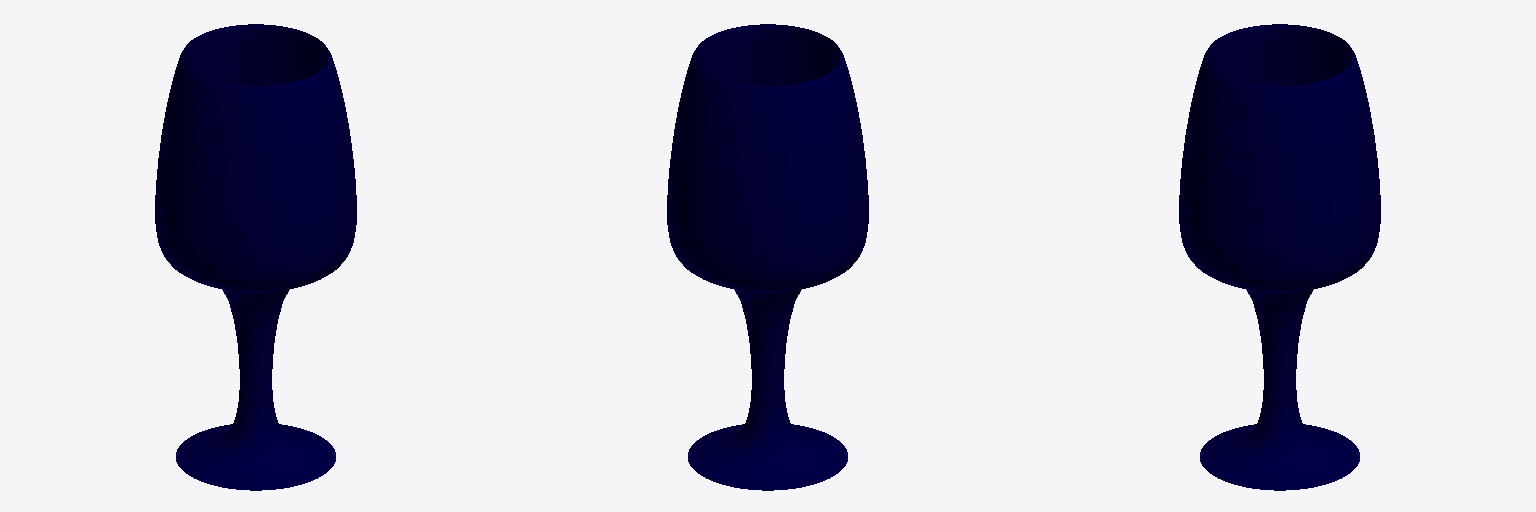
File: glass.obj
3 renders of one model, left to right at view 1: azimuth 30°, elevation 25°; view 2: azimuth 150°, elevation 25°; view 3: azimuth 270°, elevation 25°, orthographic.
Visible parts, largest first — view 1: Circle; view 2: Circle; view 3: Circle.
Boxes of the visible parts, box(x1,y1,x2,y2) form: Circle: box(155, 24, 356, 490); Circle: box(667, 24, 868, 490); Circle: box(1179, 24, 1380, 490).
Size of the model in its own units: 1.02 by 2.23 by 1.02.